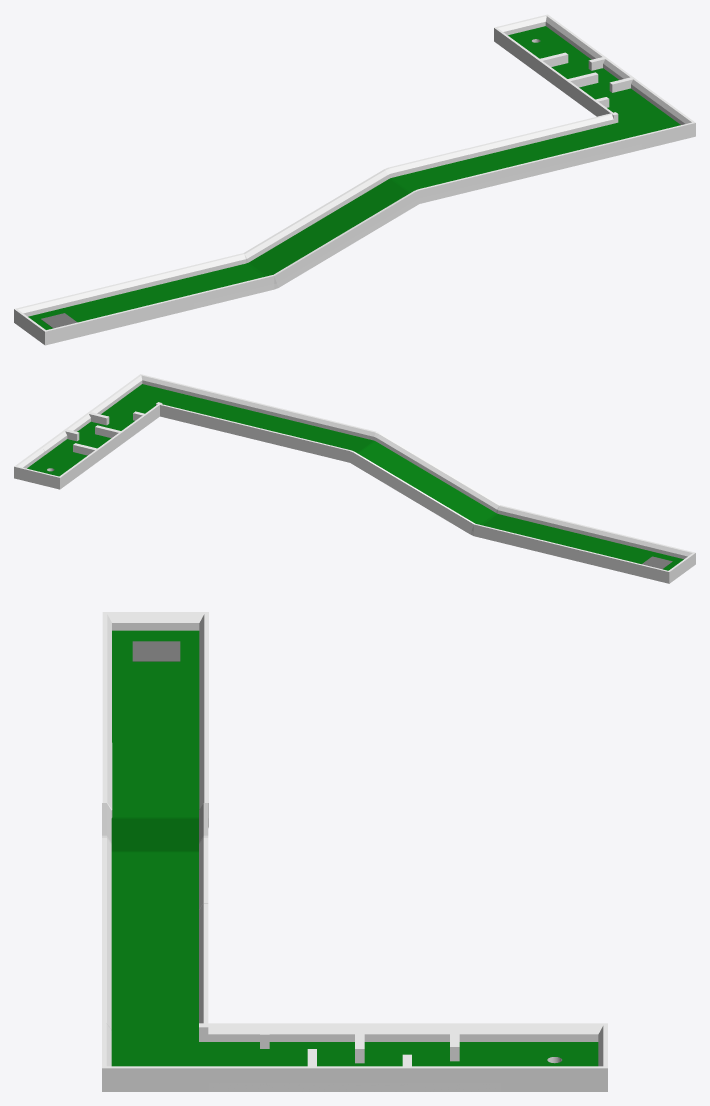
Rendered from Level9Model.obj.
3 renders of one model, top to bottom at view 1: azimuth 30°, elevation 25°; view 2: azimuth 150°, elevation 25°; view 3: azimuth 270°, elevation 25°, orthographic. The views are drawn at different scales.
Parts seen in each view (by area): view 1: Level9Model:pCube315; view 2: Level9Model:pCube315; view 3: Level9Model:pCube315.
Boxes of the visible parts, x1,y1,x2,y2 form: Level9Model:pCube315: (14, 14, 695, 345); Level9Model:pCube315: (14, 374, 695, 583); Level9Model:pCube315: (102, 612, 607, 1091).
Bounding box in the file's own units: 27.01 × 2.54 × 10.65.
Materials: 3 (2 with a texture image).
